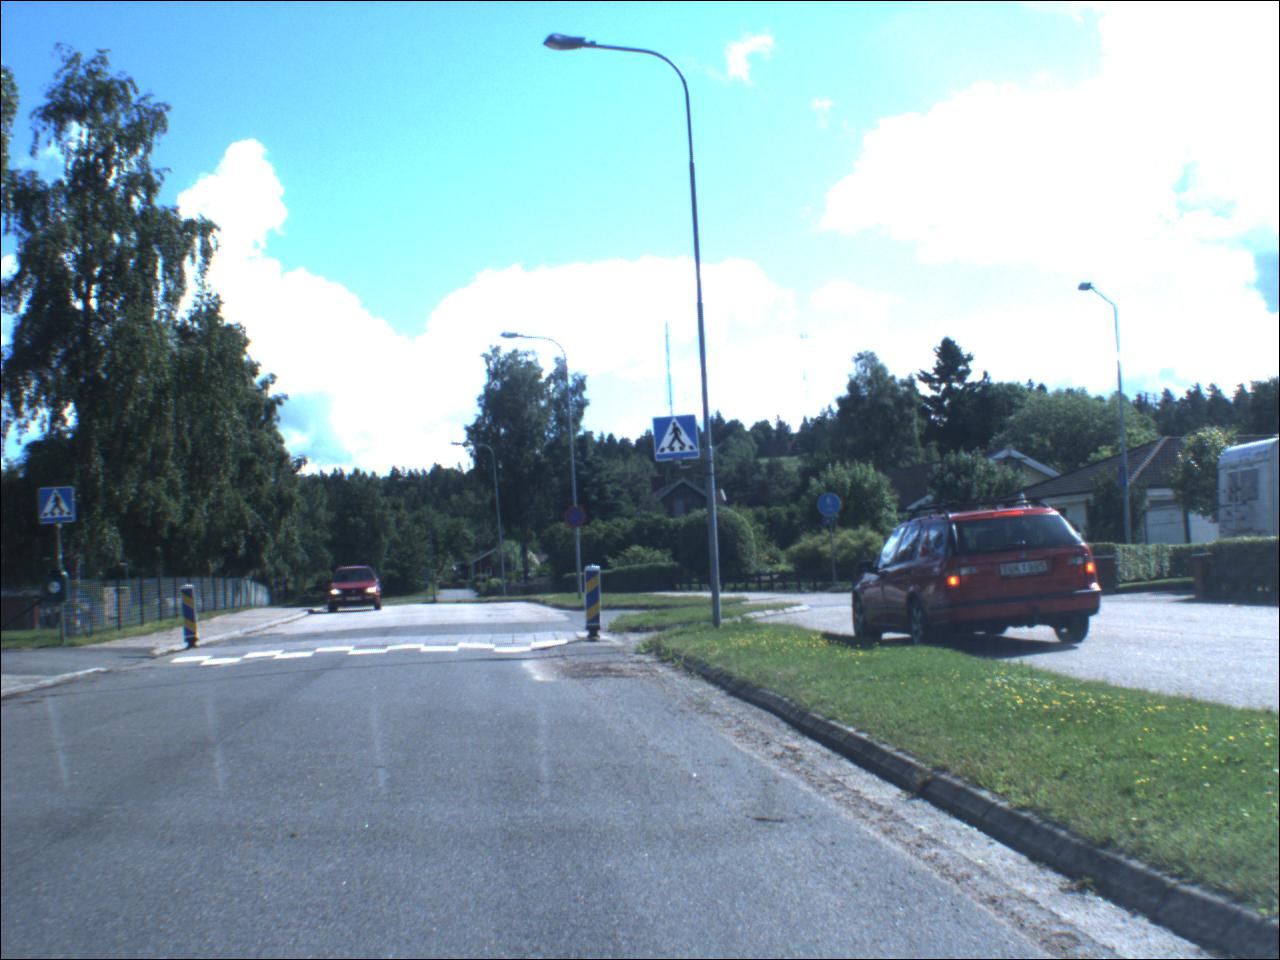NO_PARKING: (566, 507, 591, 532)
PEDESTRIAN_CROSSING: (654, 416, 703, 463), (40, 488, 78, 526)
